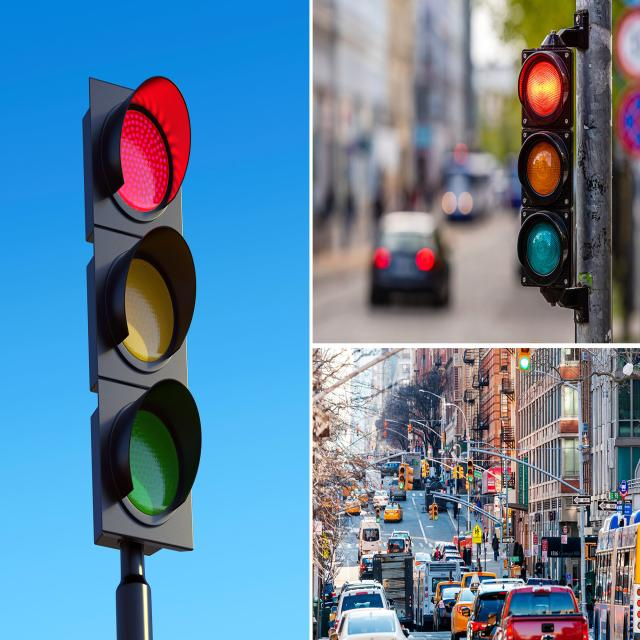Hijau: (124, 402, 181, 521), (525, 216, 560, 278), (519, 355, 530, 371), (467, 472, 473, 483)
Kuning: (118, 256, 178, 366), (520, 134, 562, 197)
Merah: (105, 101, 172, 217), (518, 54, 564, 122)
